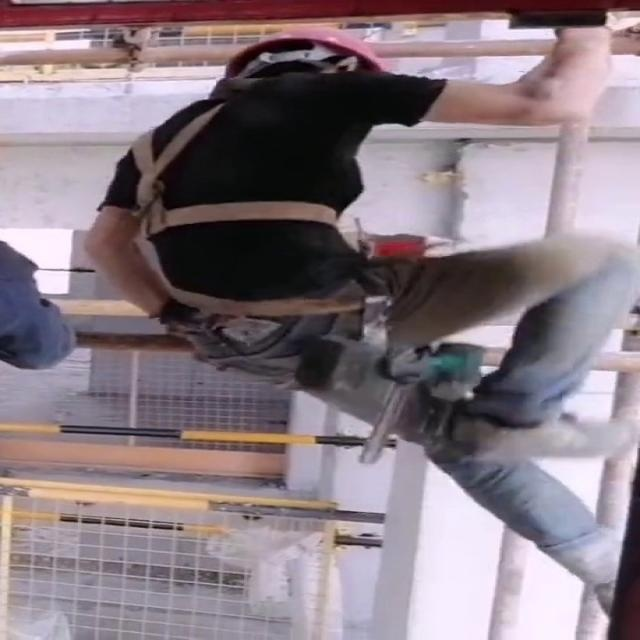Arnes_seguridad: (123, 80, 374, 253)
